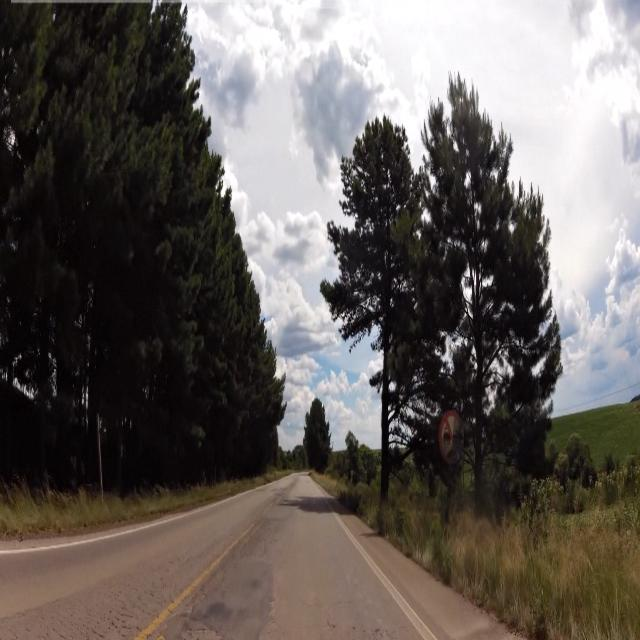R-7: (437, 411, 466, 466)
